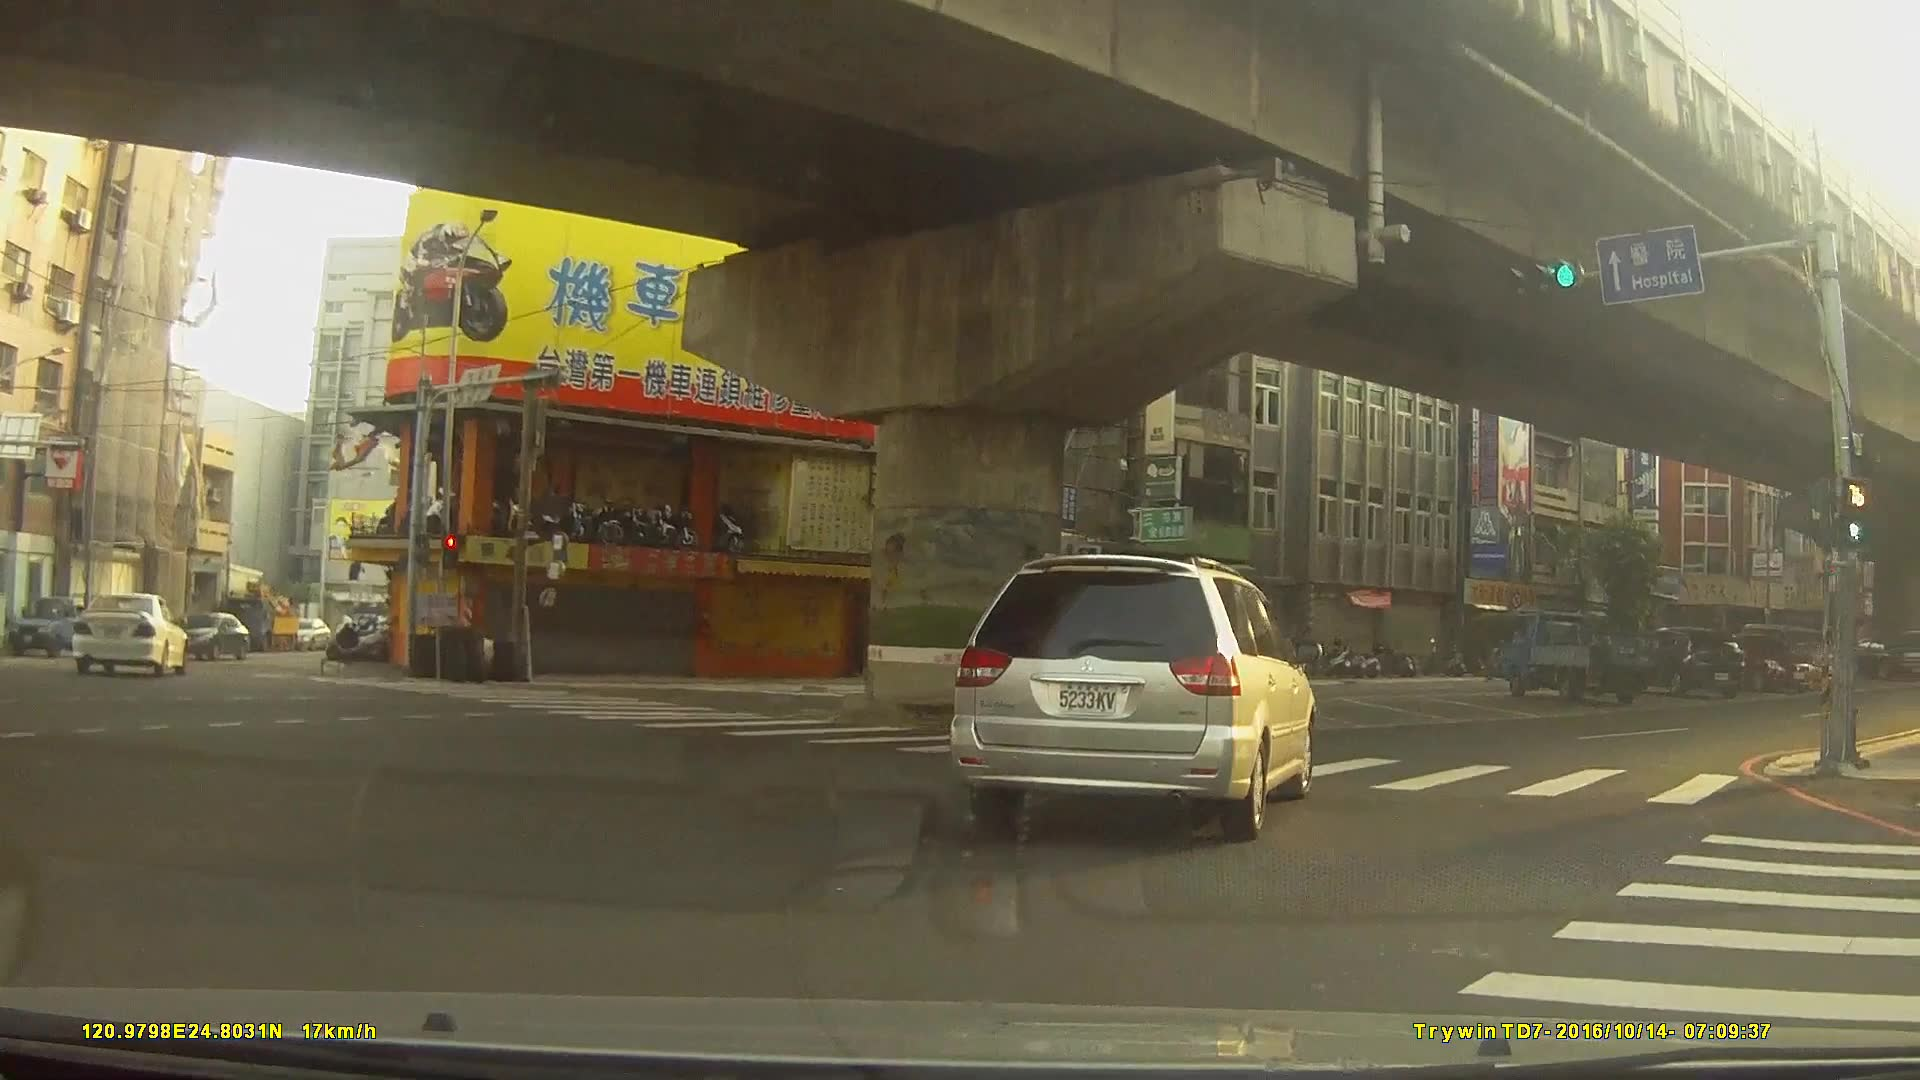vehicle: (947, 554, 1315, 841), (1495, 609, 1659, 705), (69, 589, 187, 676), (1619, 624, 1747, 695), (1713, 630, 1813, 692), (9, 595, 96, 655), (174, 611, 247, 658), (287, 617, 331, 647)
